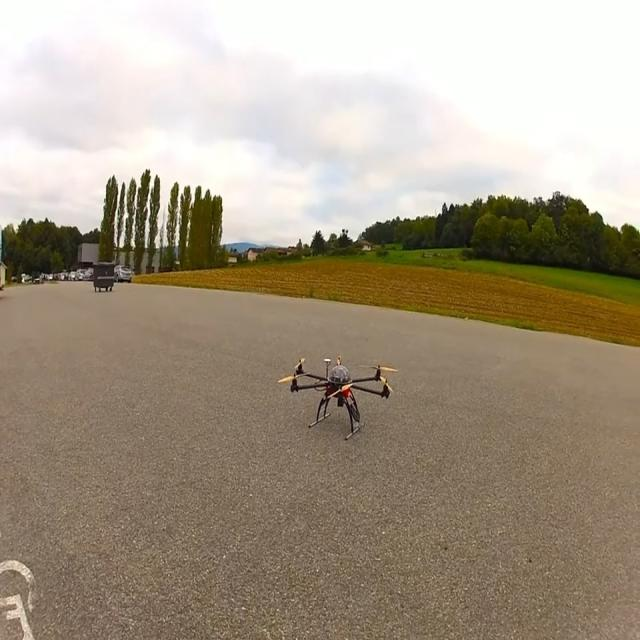drone: (277, 355, 398, 440)
